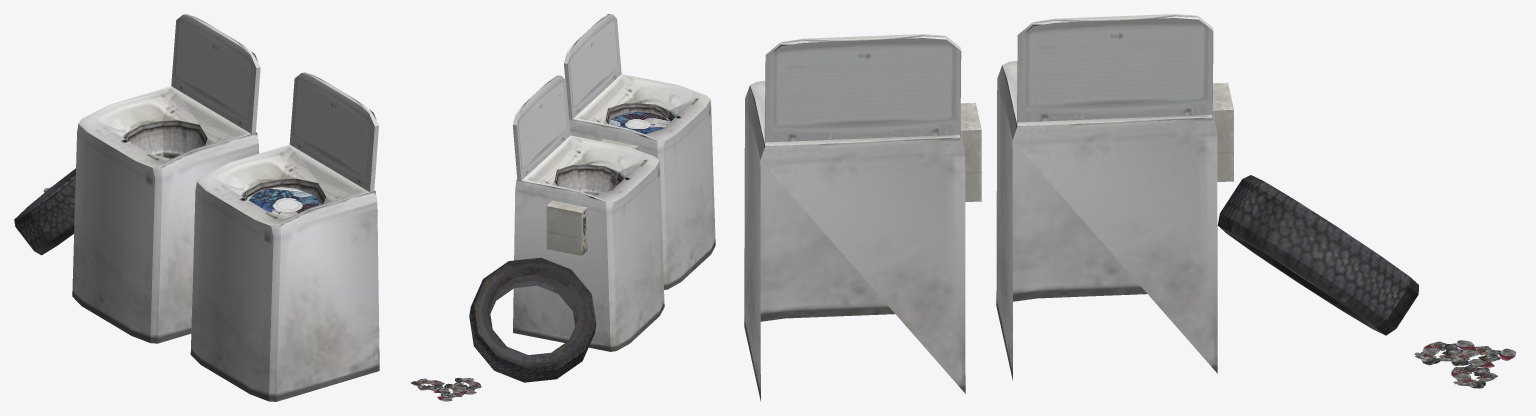
File: washers.glb
3 views of the same model, side by side, from view 1: azimuth 30°, elevation 25°; view 2: azimuth 150°, elevation 25°; view 3: azimuth 270°, elevation 25° (orthographic). The views are drawn at different scales.
Size of the model in its own units: 1.35 by 2.01 by 3.91.
Materials: 2 (2 with a texture image).
